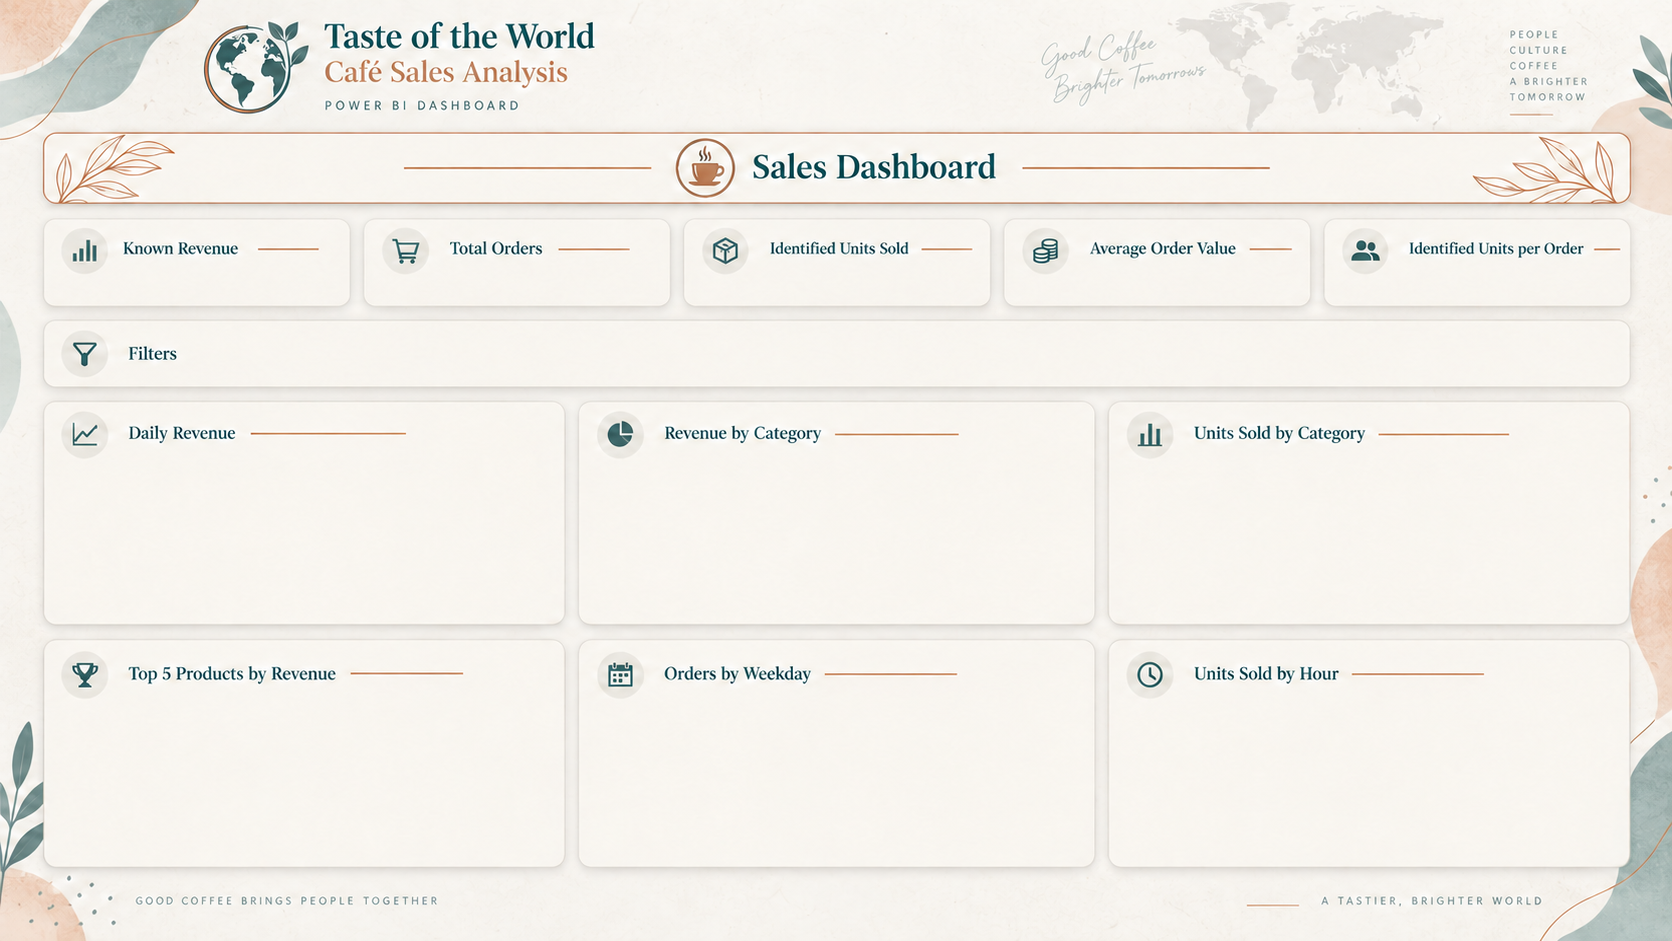

The page's visual inventory and layout, read from the dashboard file:
{"tool":"powerbi","page":{"name":"Resumen Comercial","canvas":[1920,1080],"ordinal":0},"visuals":[{"type":"cardVisual","fields":{"Data":["restaurant_sales vw_powerbi_sales.Total pedidos"]},"box":[419.7,279,356.4,58.6],"z":0},{"type":"cardVisual","fields":{"Data":["restaurant_sales vw_powerbi_sales.Ingresos conocidos"]},"box":[51.6,279,349.3,58.6],"z":1000},{"type":"cardVisual","fields":{"Data":["restaurant_sales vw_powerbi_sales.Unidades identificadas"]},"box":[778.4,279,361.1,58.6],"z":2000},{"type":"cardVisual","fields":{"Data":["restaurant_sales vw_powerbi_sales.Ticket promedio conocido"]},"box":[1155.8,279,354,58.6],"z":3000},{"type":"cardVisual","fields":{"Data":["restaurant_sales vw_powerbi_sales.Unidades identificadas por pedido"]},"box":[1509.8,279,361.1,58.6],"z":4000},{"type":"slicer","fields":{"Values":["restaurant_sales vw_powerbi_sales.order_date"]},"box":[227.4,354,1048,96.1],"z":5000},{"type":"slicer","fields":{"Values":["restaurant_sales vw_powerbi_sales.category"]},"box":[1270.7,375.1,595.5,56.3],"z":6000},{"type":"lineChart","fields":{"Category":["restaurant_sales vw_powerbi_sales.order_date"],"Y":["restaurant_sales vw_powerbi_sales.Known Revenue"]},"box":[51.6,508.8,597.8,213.3],"z":7000},{"type":"clusteredBarChart","fields":{"Category":["restaurant_sales vw_powerbi_sales.category"],"Y":["restaurant_sales vw_powerbi_sales.Known Revenue"]},"box":[665.8,508.8,590.8,213.3],"z":7001},{"type":"clusteredBarChart","fields":{"Category":["restaurant_sales vw_powerbi_sales.category"],"Y":["restaurant_sales vw_powerbi_sales.Identified Units"]},"box":[1275.4,508.8,590.8,213.3],"z":7002},{"type":"barChart","fields":{"Category":["restaurant_sales vw_powerbi_sales.item_name"],"Y":["restaurant_sales vw_powerbi_sales.Known Revenue"]},"box":[51.6,780.7,597.8,220.4],"z":7003},{"type":"clusteredColumnChart","fields":{"Category":["restaurant_sales vw_powerbi_sales.order_day_name"],"Y":["restaurant_sales vw_powerbi_sales.Total Orders"]},"box":[663.5,790.1,590.8,204],"z":7005},{"type":"clusteredColumnChart","fields":{"Category":["restaurant_sales vw_powerbi_sales.order_hour"],"Y":["restaurant_sales vw_powerbi_sales.Identified Units"]},"box":[1275.4,790.1,595.5,204],"z":7006}]}

Visuals, with their boxes in screenshot pixels (x1, y1, x2, y2), scaled from the page's 1920x1080 canvas onto the 1672x941 screenshot:
cardVisual - restaurant_sales vw_powerbi_sales.Total pedidos: x1=365, y1=243, x2=676, y2=294
cardVisual - restaurant_sales vw_powerbi_sales.Ingresos conocidos: x1=45, y1=243, x2=349, y2=294
cardVisual - restaurant_sales vw_powerbi_sales.Unidades identificadas: x1=678, y1=243, x2=992, y2=294
cardVisual - restaurant_sales vw_powerbi_sales.Ticket promedio conocido: x1=1007, y1=243, x2=1315, y2=294
cardVisual - restaurant_sales vw_powerbi_sales.Unidades identificadas por pedido: x1=1315, y1=243, x2=1629, y2=294
slicer - restaurant_sales vw_powerbi_sales.order_date: x1=198, y1=308, x2=1111, y2=392
slicer - restaurant_sales vw_powerbi_sales.category: x1=1107, y1=327, x2=1625, y2=376
lineChart - restaurant_sales vw_powerbi_sales.order_date x restaurant_sales vw_powerbi_sales.Known Revenue: x1=45, y1=443, x2=566, y2=629
clusteredBarChart - restaurant_sales vw_powerbi_sales.category x restaurant_sales vw_powerbi_sales.Known Revenue: x1=580, y1=443, x2=1094, y2=629
clusteredBarChart - restaurant_sales vw_powerbi_sales.category x restaurant_sales vw_powerbi_sales.Identified Units: x1=1111, y1=443, x2=1625, y2=629
barChart - restaurant_sales vw_powerbi_sales.item_name x restaurant_sales vw_powerbi_sales.Known Revenue: x1=45, y1=680, x2=566, y2=872
clusteredColumnChart - restaurant_sales vw_powerbi_sales.order_day_name x restaurant_sales vw_powerbi_sales.Total Orders: x1=578, y1=688, x2=1092, y2=866
clusteredColumnChart - restaurant_sales vw_powerbi_sales.order_hour x restaurant_sales vw_powerbi_sales.Identified Units: x1=1111, y1=688, x2=1629, y2=866
